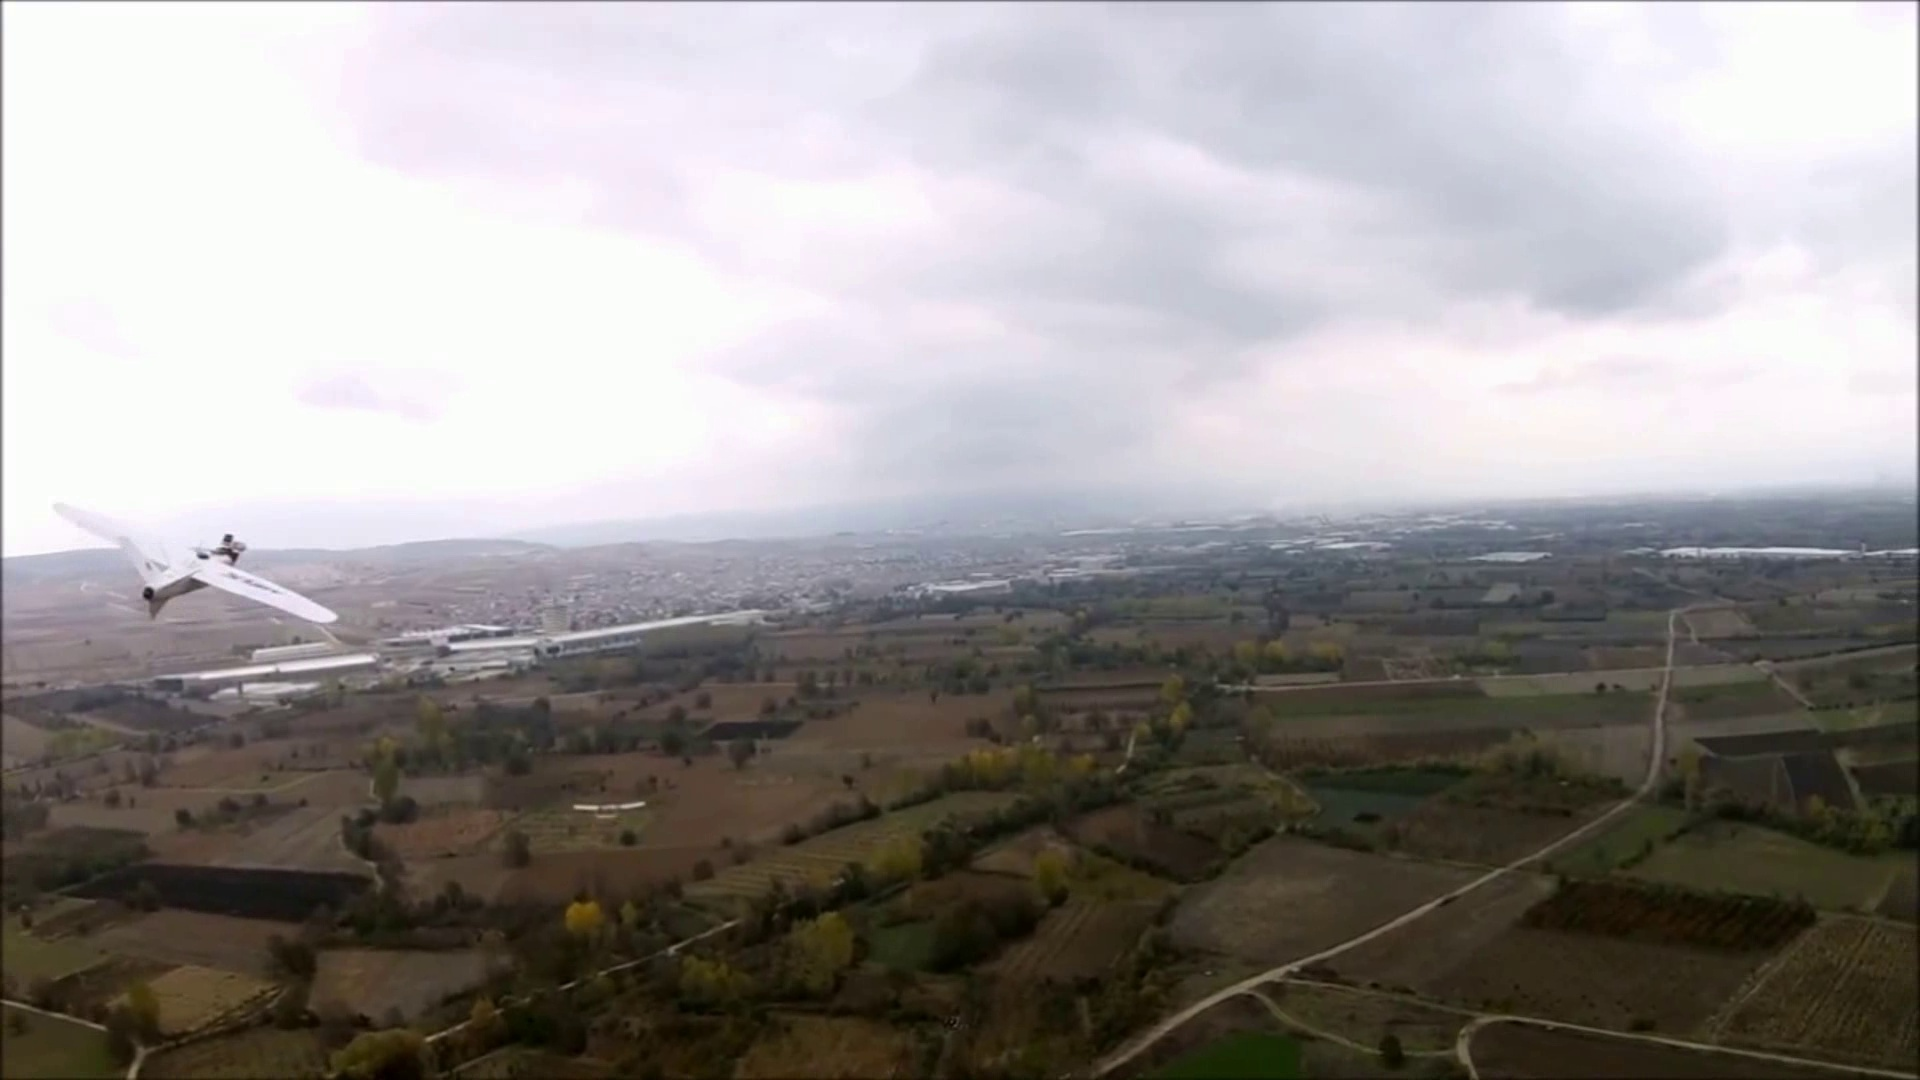airplane: (50, 499, 346, 644)
